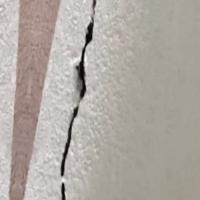crack: (50, 0, 110, 199)
